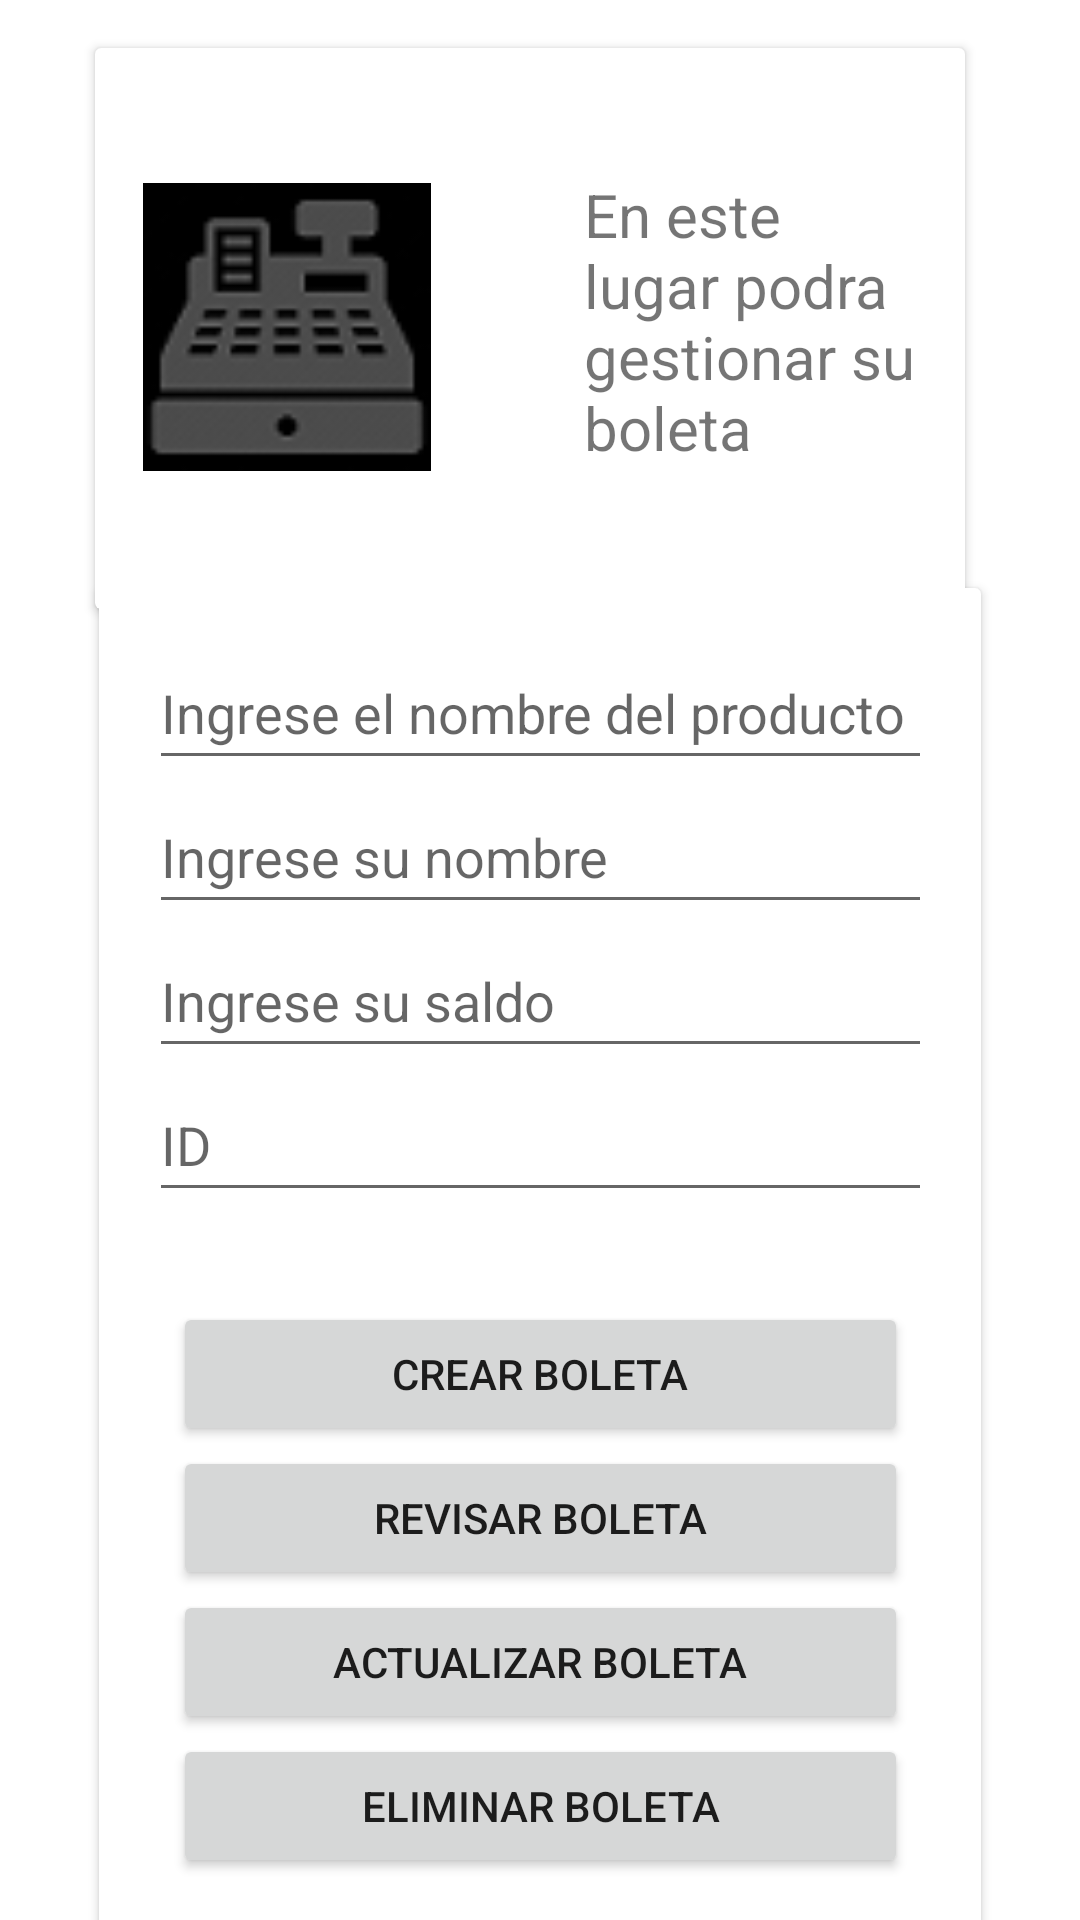

Icon click points for this 1080px x 1920px phone screenshot, format point (x, y):
caja: point (287, 327)
